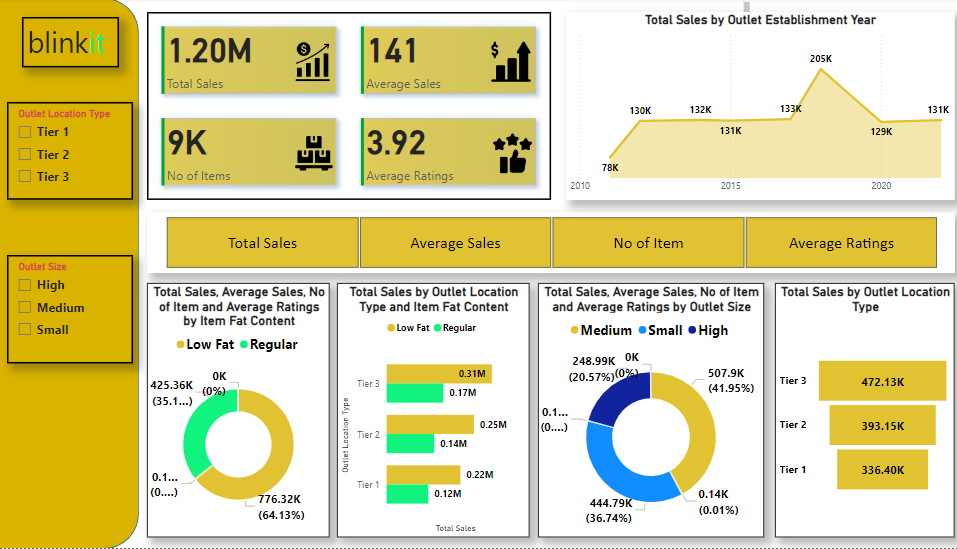

What the dashboard file says about the page in this screenshot:
{"tool":"powerbi","page":{"name":"Page 1","canvas":[1280,720],"ordinal":0},"visuals":[{"type":"shape","box":[12.4,0,183.1,721.2],"z":0},{"type":"textbox","box":[850,0,149.5,58.8],"z":1000},{"type":"textbox","box":[850,58.8,178.1,31.9],"z":2000},{"type":"cardVisual","fields":{"Data":["Sum(BlinkIT Grocery Data.Sales)","Avg(BlinkIT Grocery Data.Sales)","BlinkIT Grocery Data.No of Item","Avg(BlinkIT Grocery Data.Rating)"]},"box":[205.1,17.9,528.5,246.4],"z":3000},{"type":"slicer","fields":{"Values":["Metrics.Metrics"]},"box":[205.1,280.8,1058.4,79.8],"z":4000},{"type":"donutChart","fields":{"Y":["BlinkIT Grocery Data.Total Sales","BlinkIT Grocery Data.Average Sales","BlinkIT Grocery Data.No of Item","BlinkIT Grocery Data.Average Ratings"],"Category":["BlinkIT Grocery Data.Item Fat Content"]},"box":[205.1,373,239.5,333.1],"z":5000},{"type":"clusteredBarChart","fields":{"Y":["BlinkIT Grocery Data.Total Sales"],"Category":["BlinkIT Grocery Data.Outlet Location Type"],"Series":["BlinkIT Grocery Data.Item Fat Content"]},"box":[454.2,373,251.9,333.1],"z":6000},{"type":"areaChart","title":"Total Sales by Outlet Establishment Year","fields":{"Category":["BlinkIT Grocery Data.Outlet Establishment Year"],"Y":["Sum(BlinkIT Grocery Data.Sales)"]},"box":[754.2,17.9,509.2,246.4],"z":7000},{"type":"donutChart","fields":{"Y":["BlinkIT Grocery Data.Total Sales","BlinkIT Grocery Data.Average Sales","BlinkIT Grocery Data.No of Item","BlinkIT Grocery Data.Average Ratings"],"Category":["BlinkIT Grocery Data.Outlet Size"]},"box":[717.1,373,295.9,333.1],"z":8000},{"type":"funnel","fields":{"Y":["BlinkIT Grocery Data.Total Sales"],"Category":["BlinkIT Grocery Data.Outlet Location Type"]},"box":[1028.1,373,235.4,333.1],"z":9000},{"type":"slicer","fields":{"Values":["BlinkIT Grocery Data.Outlet Location Type"]},"box":[22,136.3,165.2,128],"z":10000},{"type":"textbox","box":[41.3,24.8,126.6,66.1],"z":11000},{"type":"slicer","fields":{"Values":["BlinkIT Grocery Data.Outlet Size"]},"box":[22,335.8,165.2,141.8],"z":12000}]}

Visuals, with their boxes in screenshot pixels (x1, y1, x2, y2), scaled from the page's 1280x720 canvas onto the 957x549 screenshot:
shape: 9:0:146:548
textbox: 636:0:747:45
textbox: 636:45:769:69
cardVisual - Sum(BlinkIT Grocery Data.Sales) x Avg(BlinkIT Grocery Data.Sales): 153:14:548:202
slicer - Metrics.Metrics: 153:214:945:275
donutChart - BlinkIT Grocery Data.Total Sales x BlinkIT Grocery Data.Average Sales: 153:284:332:538
clusteredBarChart - BlinkIT Grocery Data.Total Sales x BlinkIT Grocery Data.Outlet Location Type: 340:284:528:538
"Total Sales by Outlet Establishment Year" areaChart: 564:14:945:202
donutChart - BlinkIT Grocery Data.Total Sales x BlinkIT Grocery Data.Average Sales: 536:284:757:538
funnel - BlinkIT Grocery Data.Total Sales x BlinkIT Grocery Data.Outlet Location Type: 769:284:945:538
slicer - BlinkIT Grocery Data.Outlet Location Type: 16:104:140:202
textbox: 31:19:126:69
slicer - BlinkIT Grocery Data.Outlet Size: 16:256:140:364
